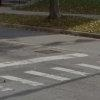Crosswalk: (5, 55, 99, 92)
